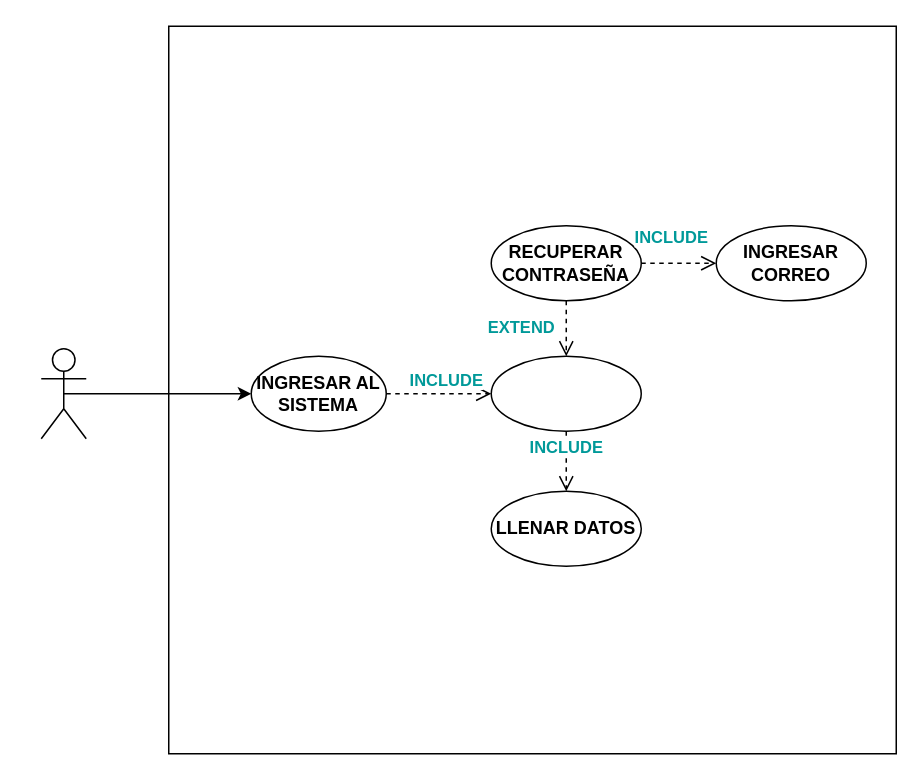
The diagram is 923 pixels wide and 780 high, and some of its shapes have lost their labels. The centre of each missing label's shape, as x and y in pixels:
"CLIENTE" goes at (x=63, y=393).
"IDENTIFICAR" goes at (x=565, y=393).
